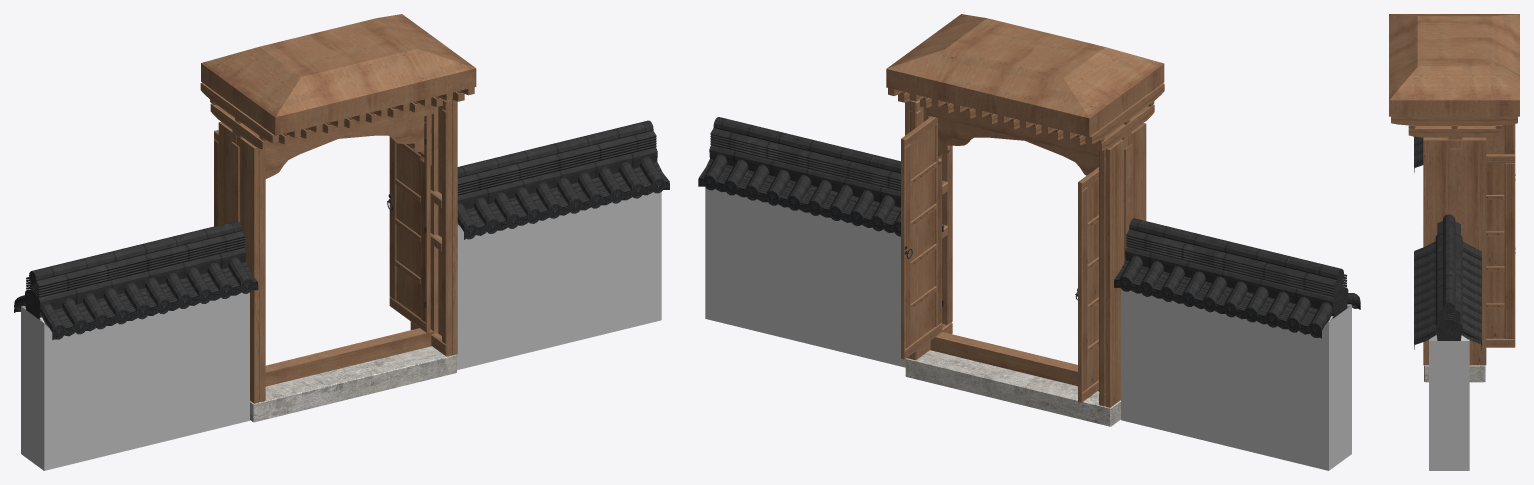
File: SM_HBJ_HG_StoneWallH_Splines_16.fbx
The picture shows the model from 3 angles, left to right: view 1: azimuth 30°, elevation 25°; view 2: azimuth 150°, elevation 25°; view 3: azimuth 270°, elevation 25°; orthographic projection. The views are drawn at different scales.
Visible parts, largest first — view 1: SM_HBJ_HG_StoneWallH_Splines_16; view 2: SM_HBJ_HG_StoneWallH_Splines_16; view 3: SM_HBJ_HG_StoneWallH_Splines_16.
Part boxes in pixels (x1,y1,x2,y2): SM_HBJ_HG_StoneWallH_Splines_16: (14, 14, 669, 470); SM_HBJ_HG_StoneWallH_Splines_16: (698, 14, 1360, 470); SM_HBJ_HG_StoneWallH_Splines_16: (1389, 14, 1519, 470).
Size of the model in its own units: 603 by 126 by 315.
